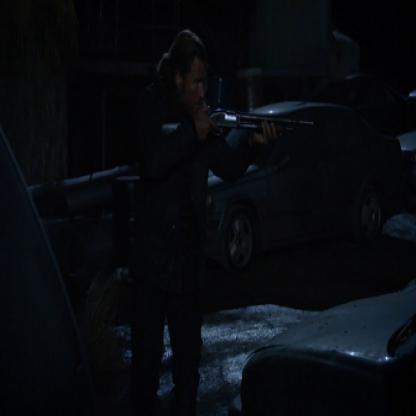Gun: (156, 102, 318, 159)
